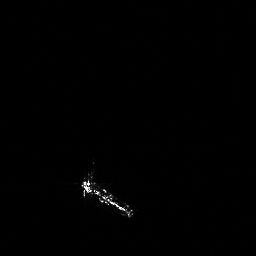ship: (76, 169, 138, 222)
